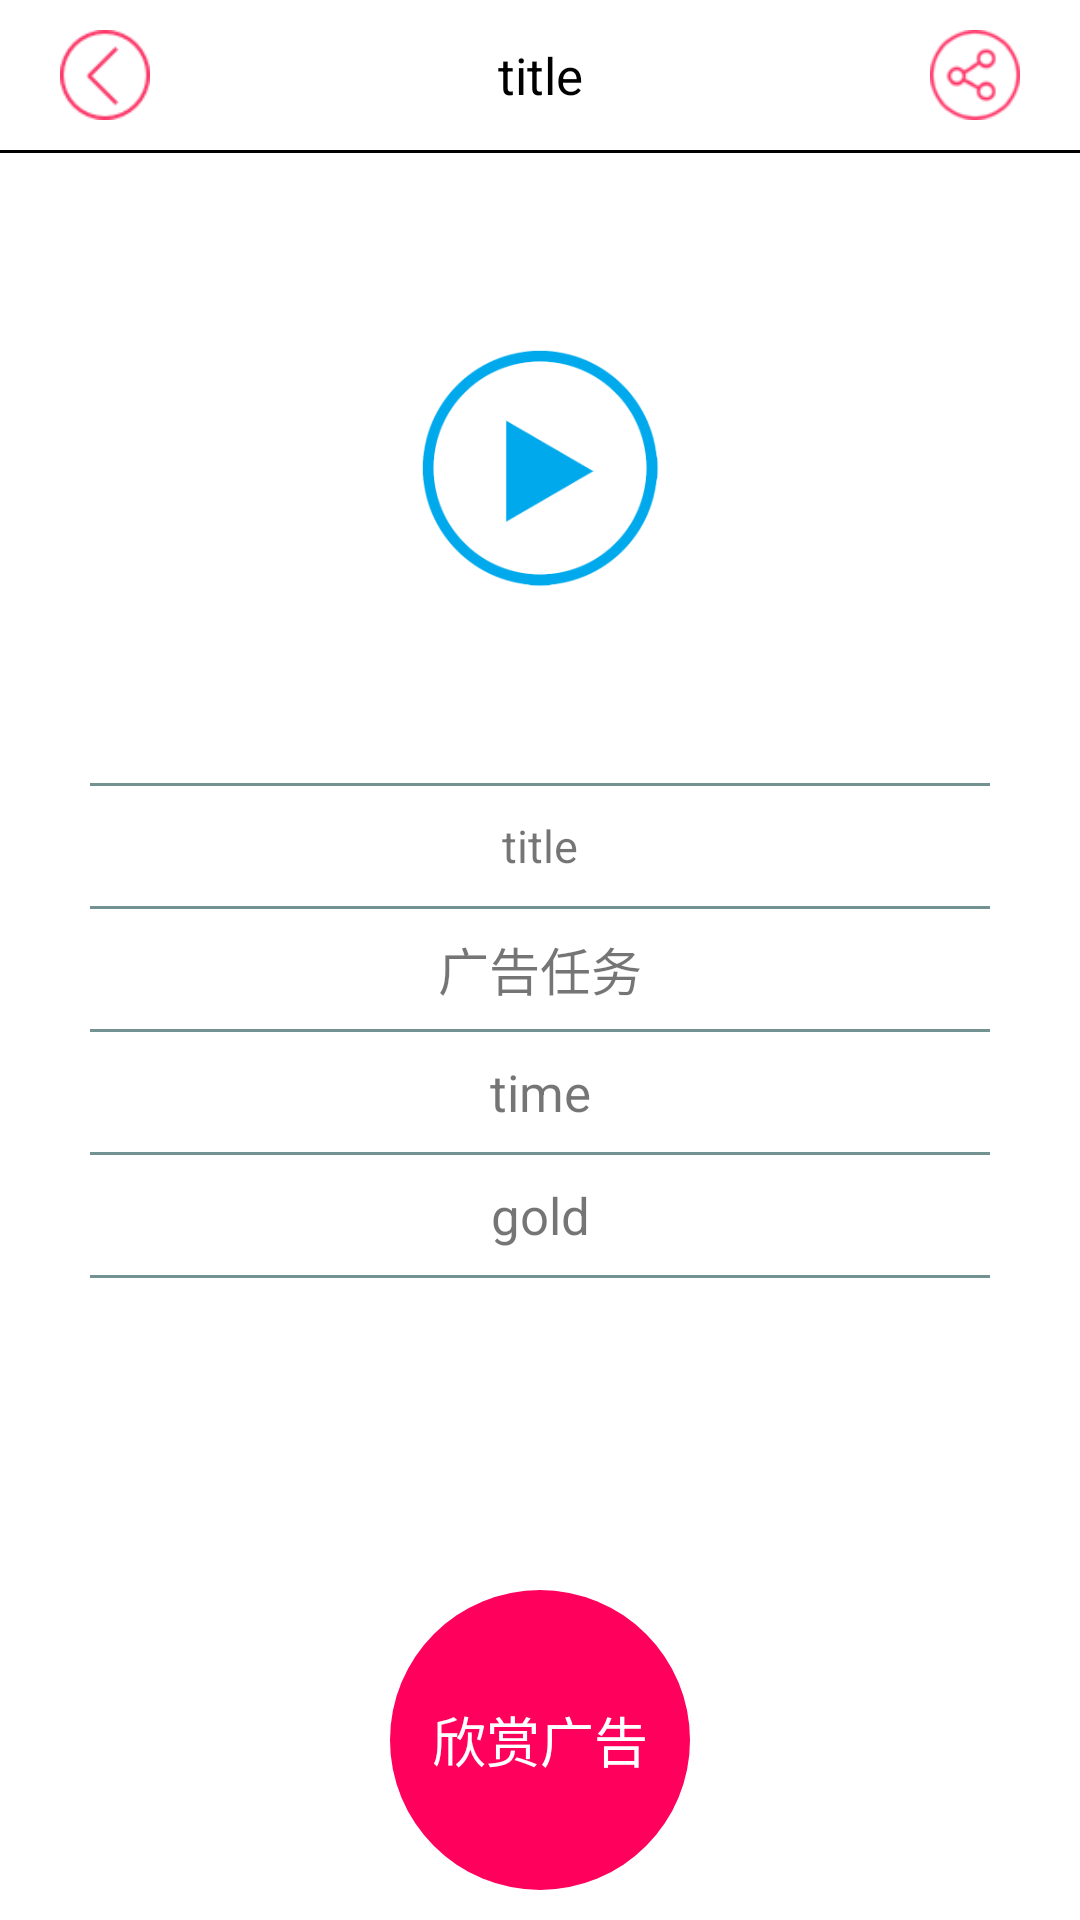

Named icons in this screenshot (1080 × 1920) and their centers, (x,y):
play: (540,468)
share: (975,75)
utouu back: (105,75)
